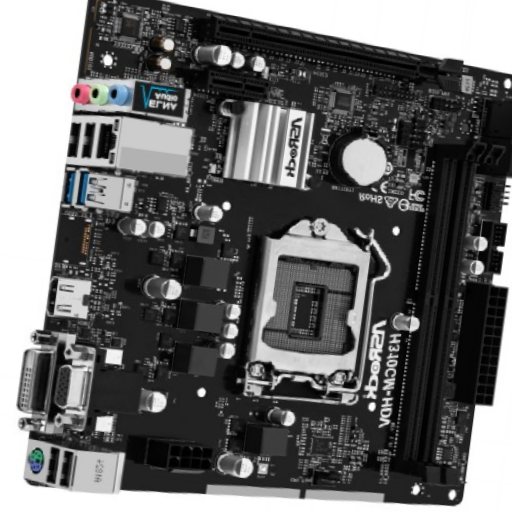CPU: (246, 218, 369, 408)
GPU: (205, 16, 462, 96)
MOTHERBOARD: (20, 2, 511, 504)
RAM: (393, 141, 506, 481)
